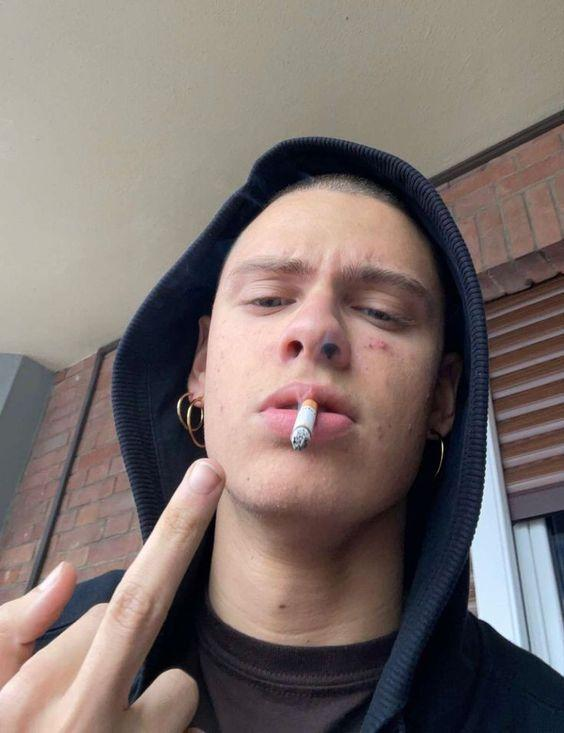cigarette: (291, 399, 319, 451)
